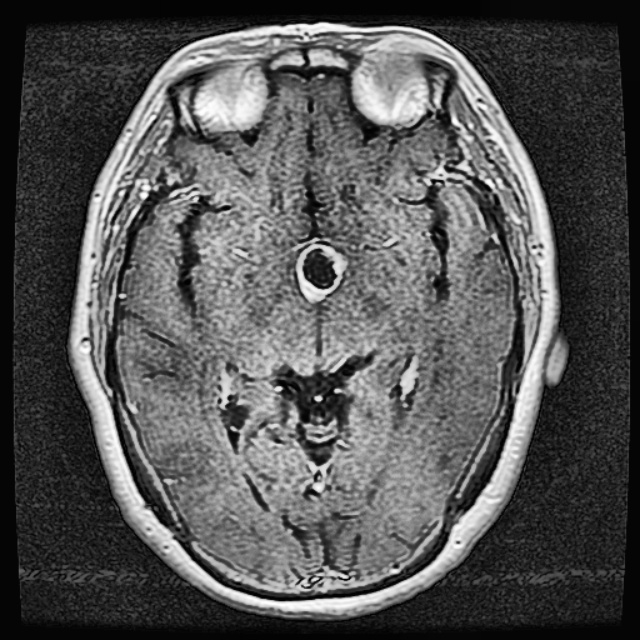Pituitary: (297, 237, 349, 299)
